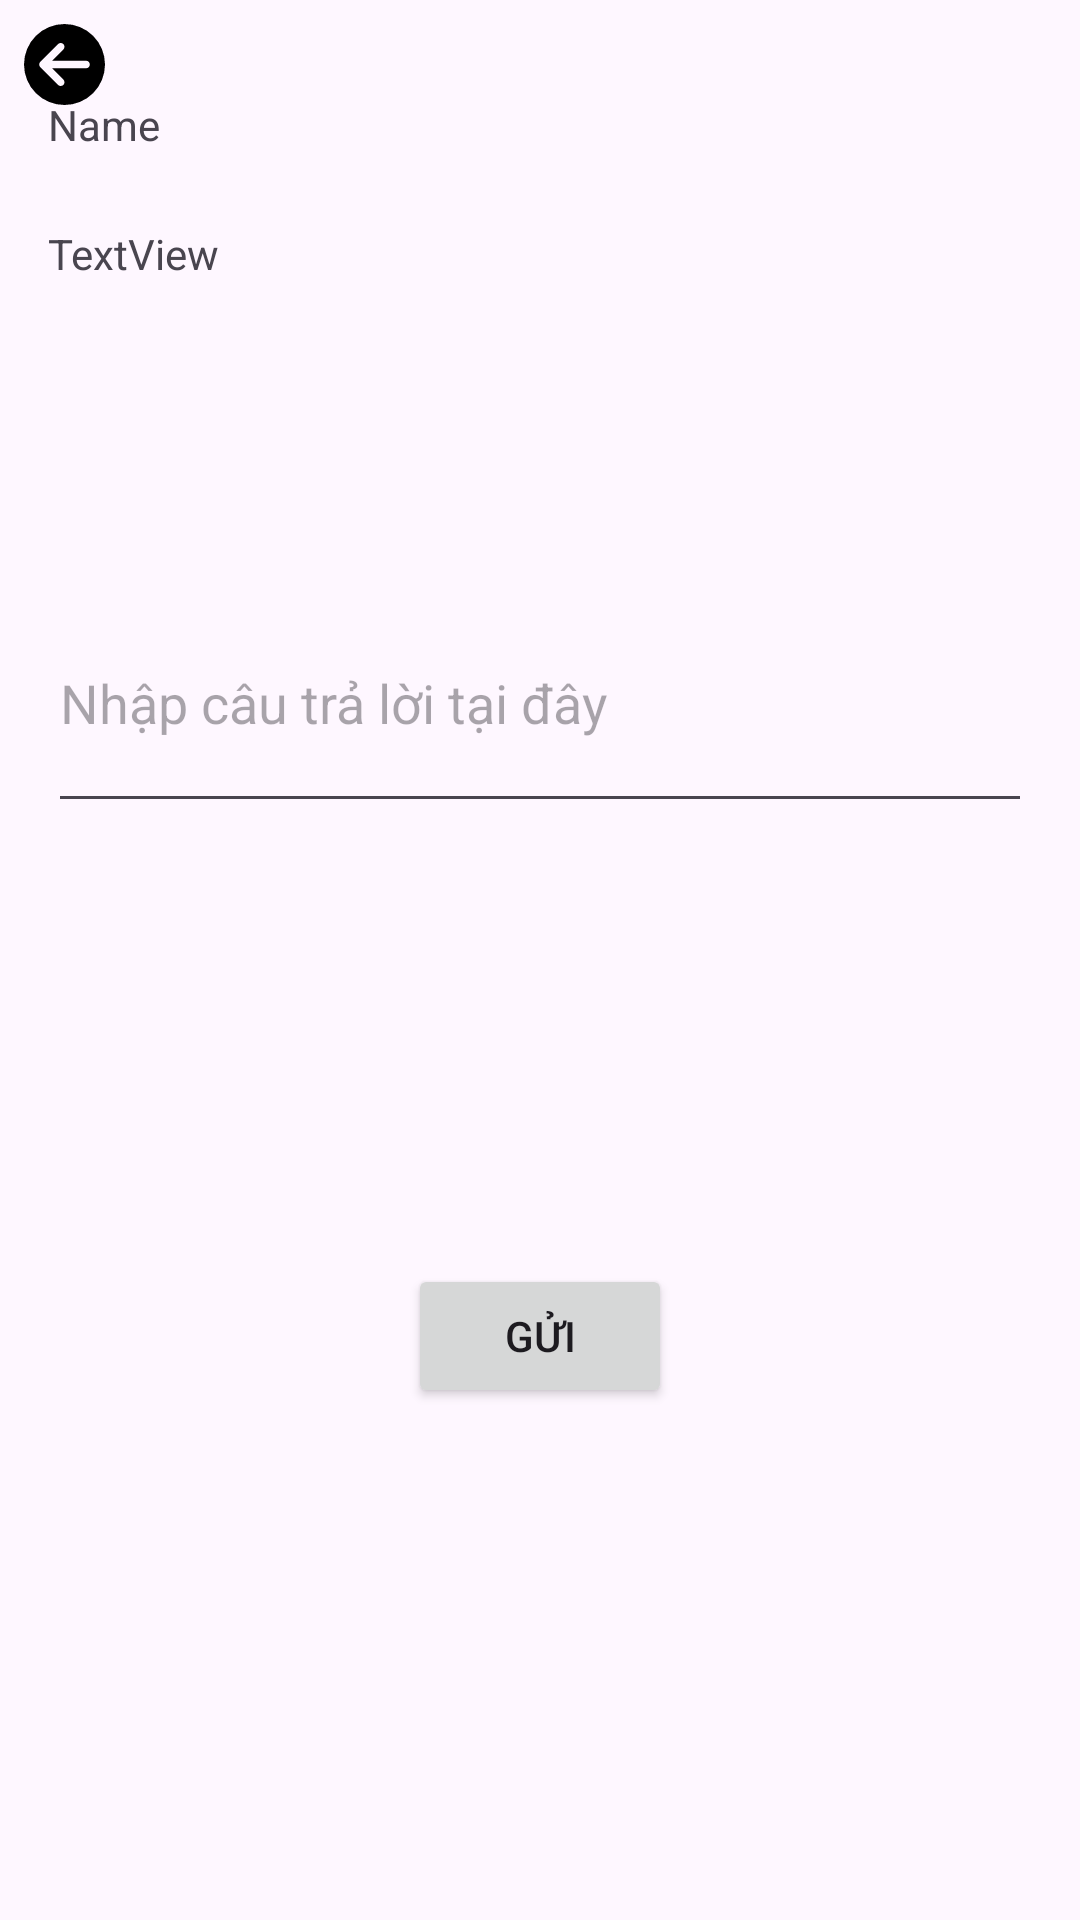

Icon bounding boxes for this 1080×1920 phone screenshot, format (x1, y1, x2, y2):
circle arrow left: (24, 24, 105, 105)
